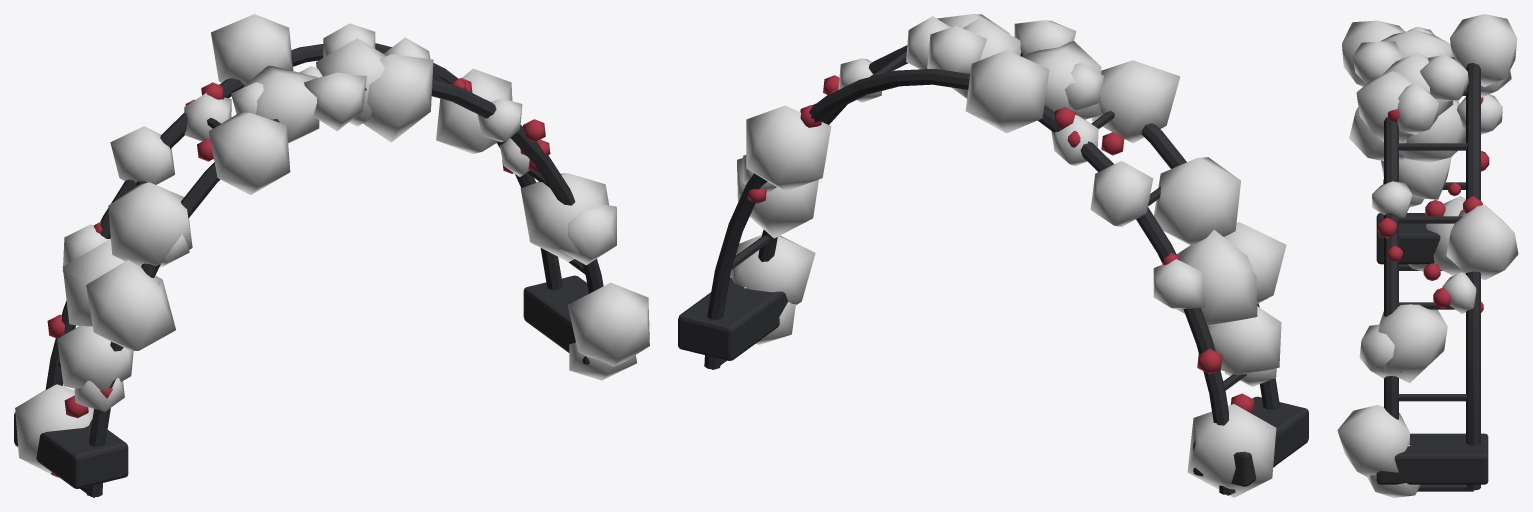
Rendered from ench_arch_vine.fbx.
The picture shows the model from 3 angles, left to right: view 1: azimuth 30°, elevation 25°; view 2: azimuth 150°, elevation 25°; view 3: azimuth 270°, elevation 25°; orthographic projection. The views are drawn at different scales.
Visible parts, largest first — view 1: leafdark_1, iron_1, rose_1; view 2: leafdark_1, iron_1, rose_1; view 3: leafdark_1, iron_1, rose_1.
Boxes of the visible parts, left/top/right/bottom form: leafdark_1: left=15, top=14, right=649, bottom=476; iron_1: left=14, top=43, right=603, bottom=497; rose_1: left=47, top=74, right=550, bottom=477; leafdark_1: left=730, top=14, right=1286, bottom=497; iron_1: left=678, top=45, right=1308, bottom=495; rose_1: left=747, top=75, right=1254, bottom=413; leafdark_1: left=1337, top=14, right=1518, bottom=497; iron_1: left=1376, top=57, right=1488, bottom=491; rose_1: left=1377, top=97, right=1489, bottom=312.
Size of the model in its own units: 1.6 by 1.05 by 0.4862.
